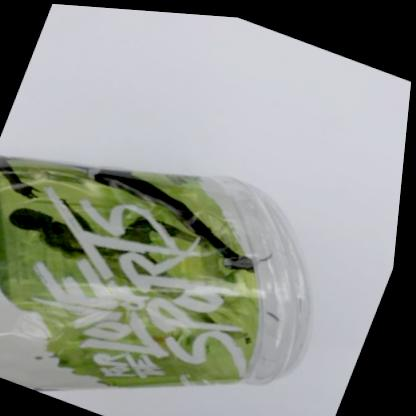Plastic: (0, 156, 316, 390)
